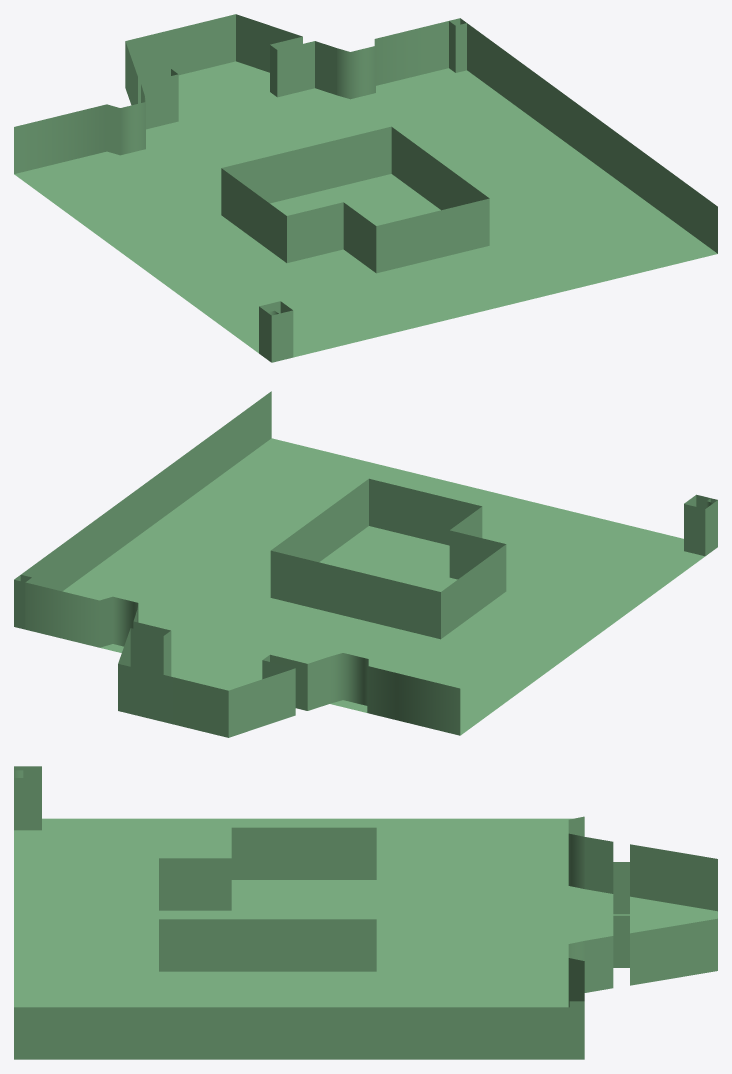
Rendered from Hallway_L_16_A_COL.fbx.
3 views of the same model, one above another, from view 1: azimuth 30°, elevation 25°; view 2: azimuth 150°, elevation 25°; view 3: azimuth 270°, elevation 25° (orthographic). The views are drawn at different scales.
Parts seen in each view (by area): view 1: Hallway_L_16_A_COL; view 2: Hallway_L_16_A_COL; view 3: Hallway_L_16_A_COL.
Part boxes in pixels (box(x1,y1,x2,y2)): Hallway_L_16_A_COL: box(14, 14, 717, 362); Hallway_L_16_A_COL: box(14, 391, 717, 737); Hallway_L_16_A_COL: box(14, 766, 717, 1059).
Bounding box in the file's own units: 1574 × 159 × 1941.
